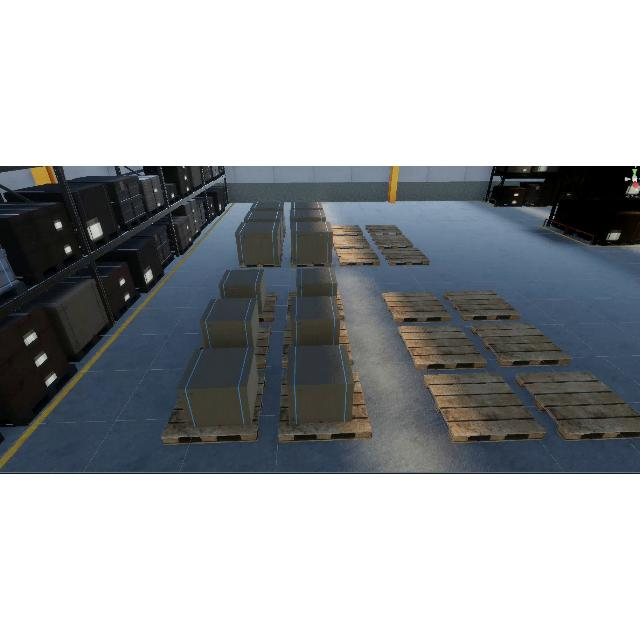wooden_pallet: (514, 370, 640, 442), (423, 373, 548, 445), (160, 373, 266, 446), (277, 371, 372, 443), (469, 322, 573, 367), (397, 325, 487, 372), (443, 290, 521, 322), (381, 292, 451, 324), (381, 248, 431, 265), (336, 248, 381, 266), (371, 236, 414, 250), (365, 225, 402, 237)
